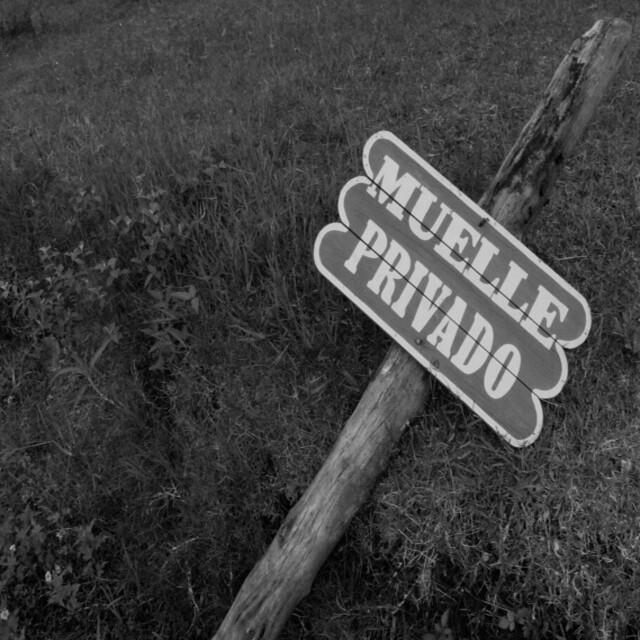Inclined Pole: (208, 13, 636, 640)
